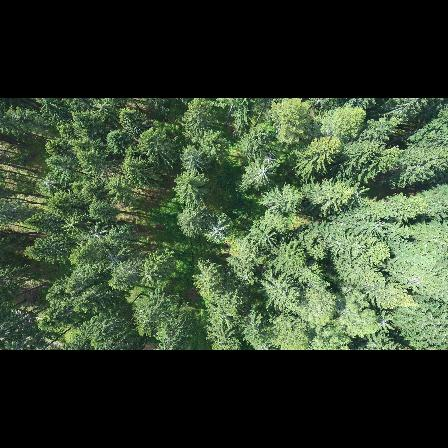Sick: (204, 216, 231, 244), (375, 308, 397, 336), (36, 172, 59, 194), (253, 161, 272, 184)
